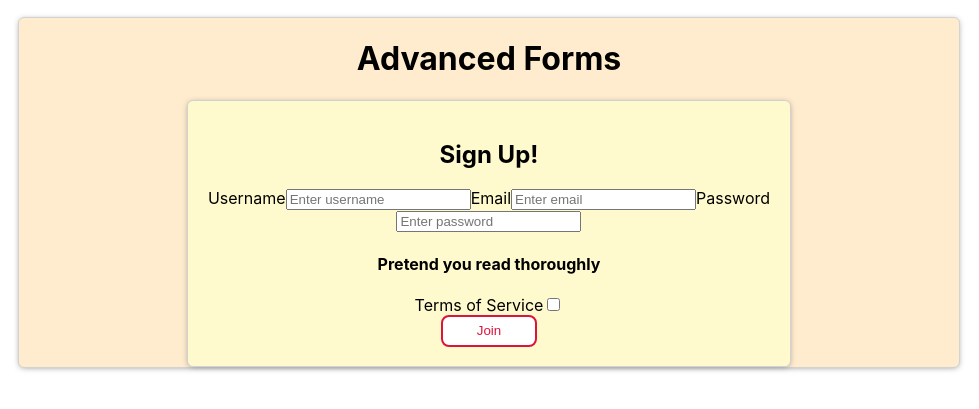
Scenario: Forms App › Form Validation example › Proper message appears when user types into username input, then leaves field empty
Type "lorem" into the field named "username" at (379, 200), box [286,189,471,210]
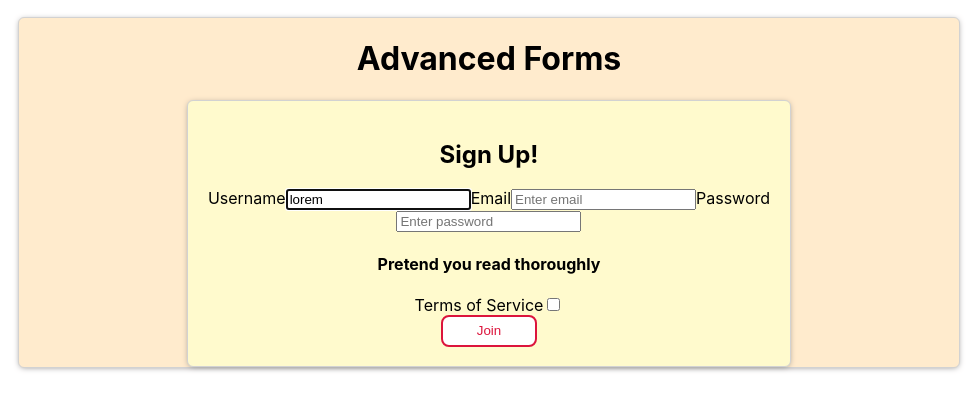
Press Selectall Backspace in the field named "username", box [286,189,471,210]
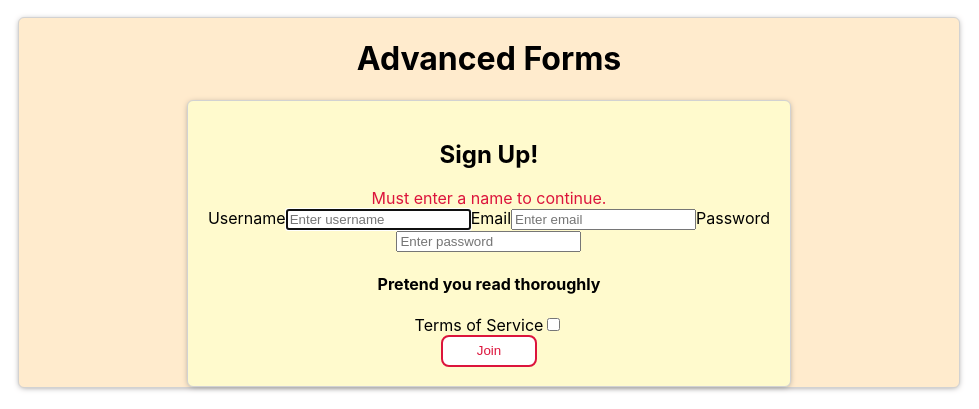
Expected: the text "Must enter a name to continue." is shown, [372,188,606,208]
